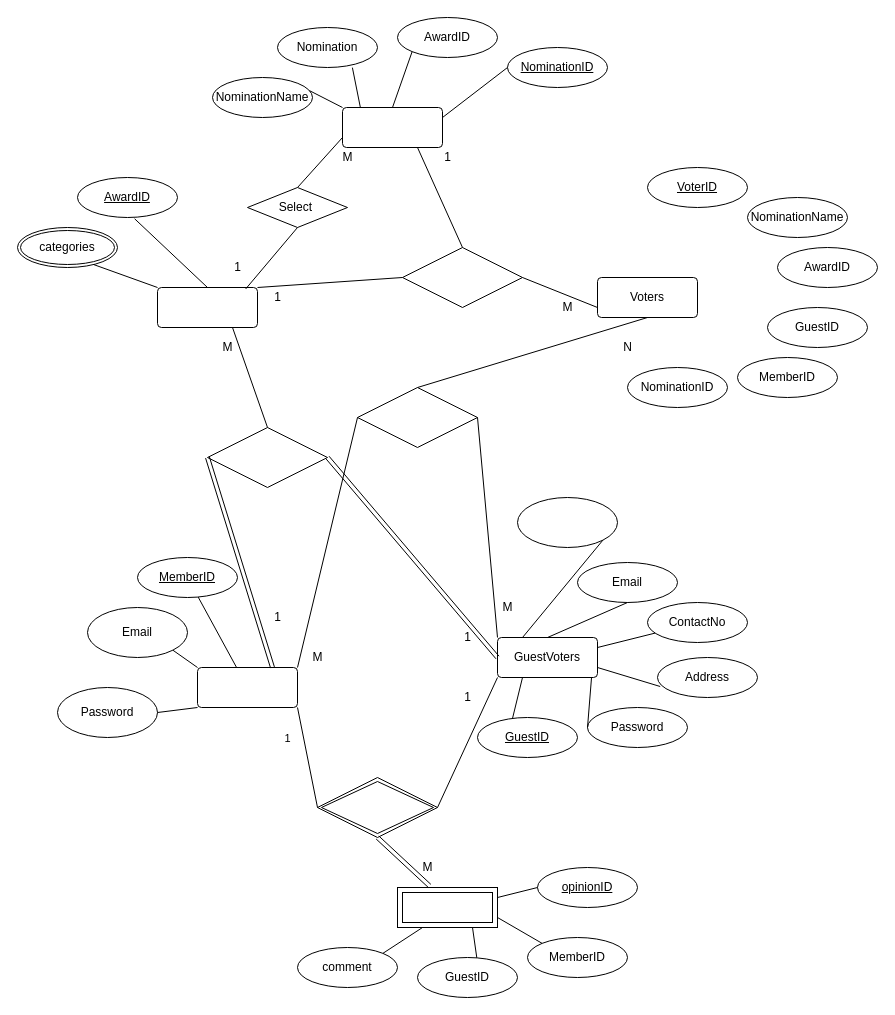
The diagram is 895 pixels wide and 1015 high, and some of its shapes have lost their labels. Each missing label, with the centre of its shape:
Awards: the point at 207,307
Has: the point at 417,417
include: the point at 462,277
MemberVoters: the point at 247,687
Name: the point at 567,522
Nominations: the point at 392,127
Opinion: the point at 447,907
Type: the point at 377,807
Vote: the point at 267,457
